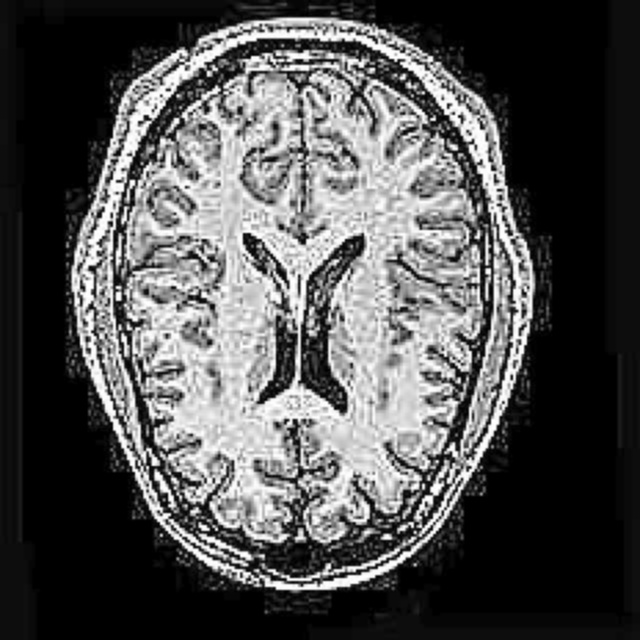glioma tumor: (138, 65, 441, 522)
